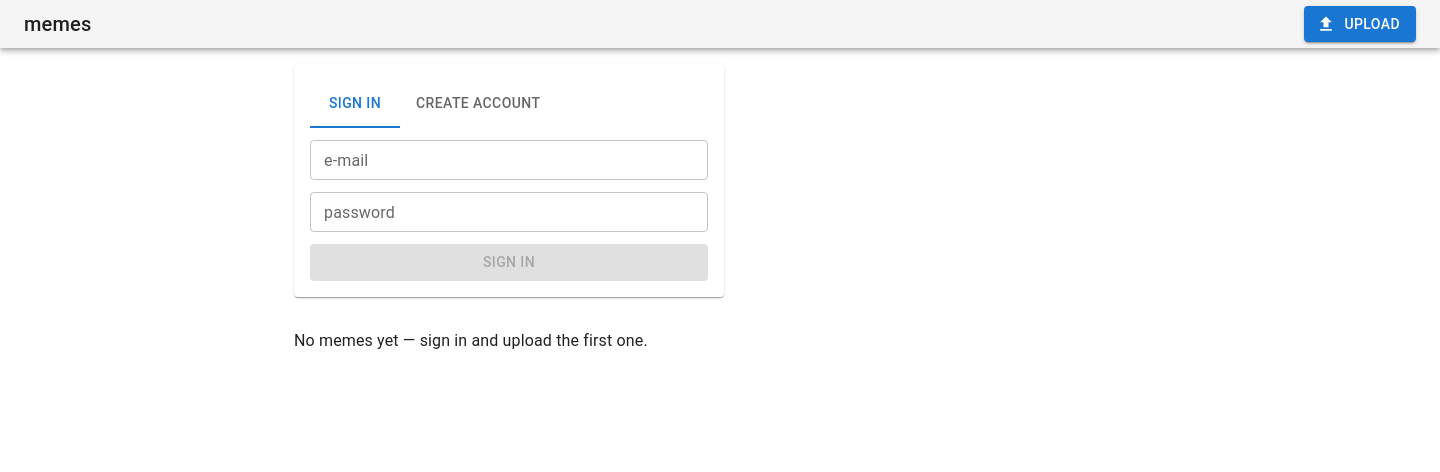
a refused registration names every rule it broke › shows only the field that was refused
Step 1. Click the tab "Create account" → x=478, y=104, box [400,80,556,128]
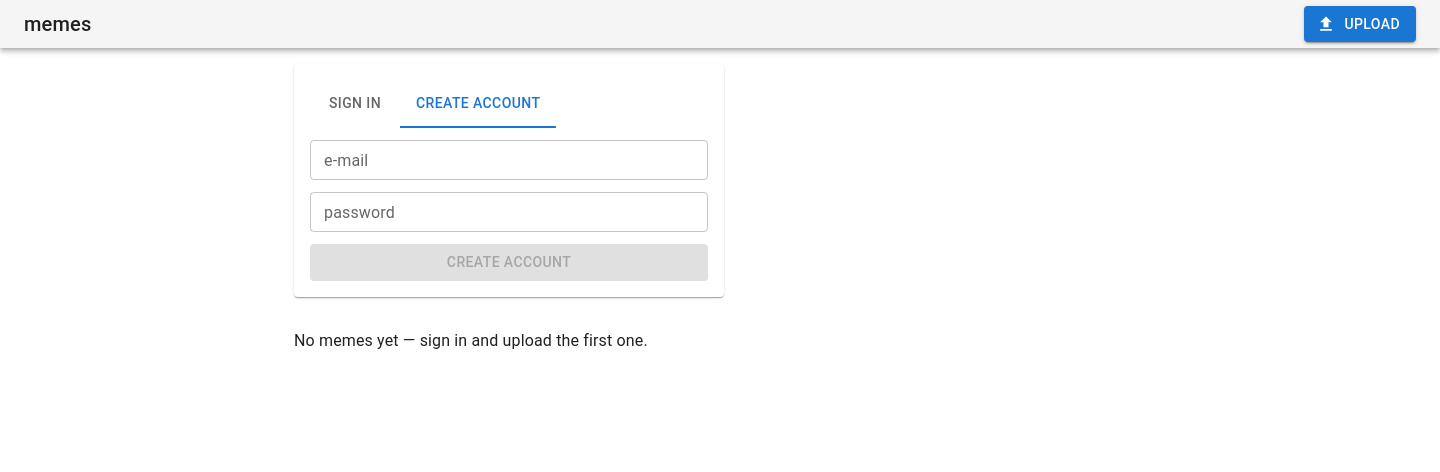
Step 2. Type "fine@example.com" into the field labelled "e-mail" → x=509, y=160, box [310,140,708,180]
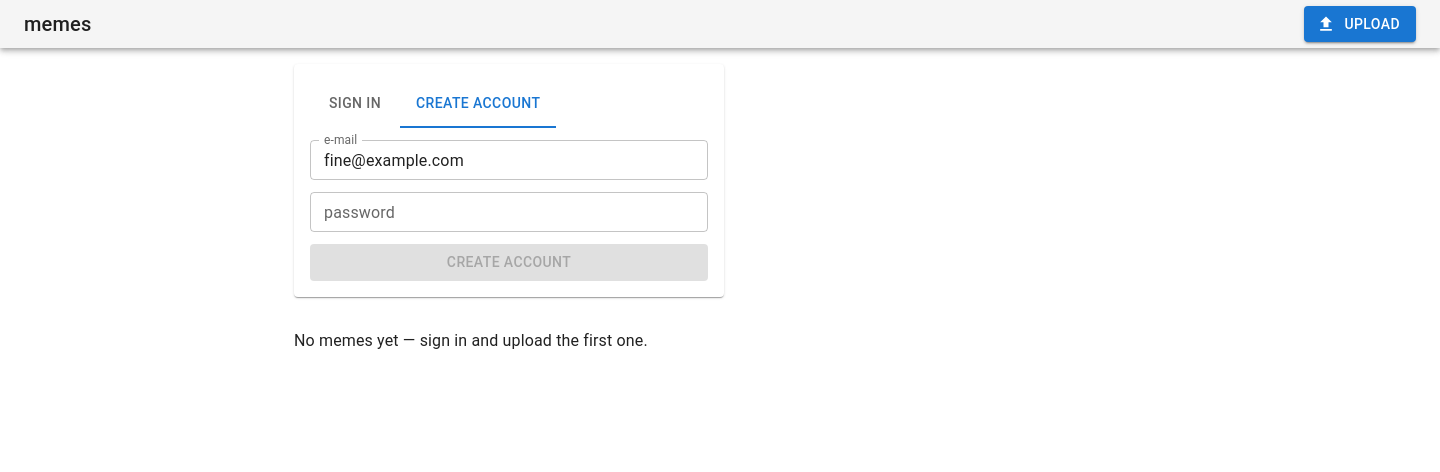
Step 3. Type "lowercase only" into the password field labelled "password" → x=509, y=212, box [310,192,708,232]
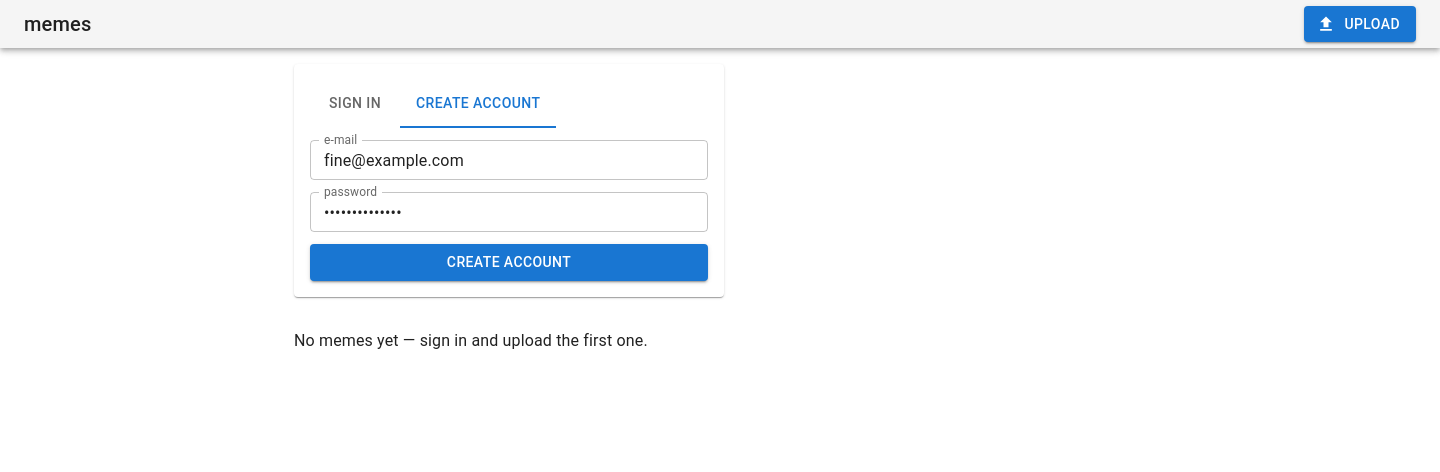
Step 4. Click the button "Create account" → x=509, y=262, box [310,244,708,280]
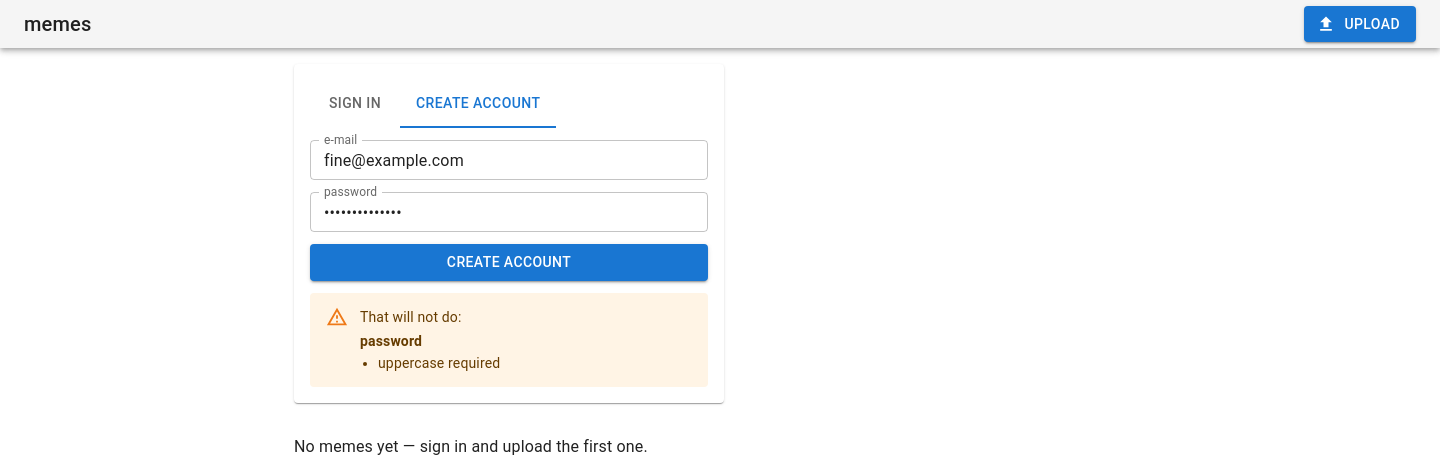
Result: the list item "uppercase required" is shown at [378,352,500,372]
